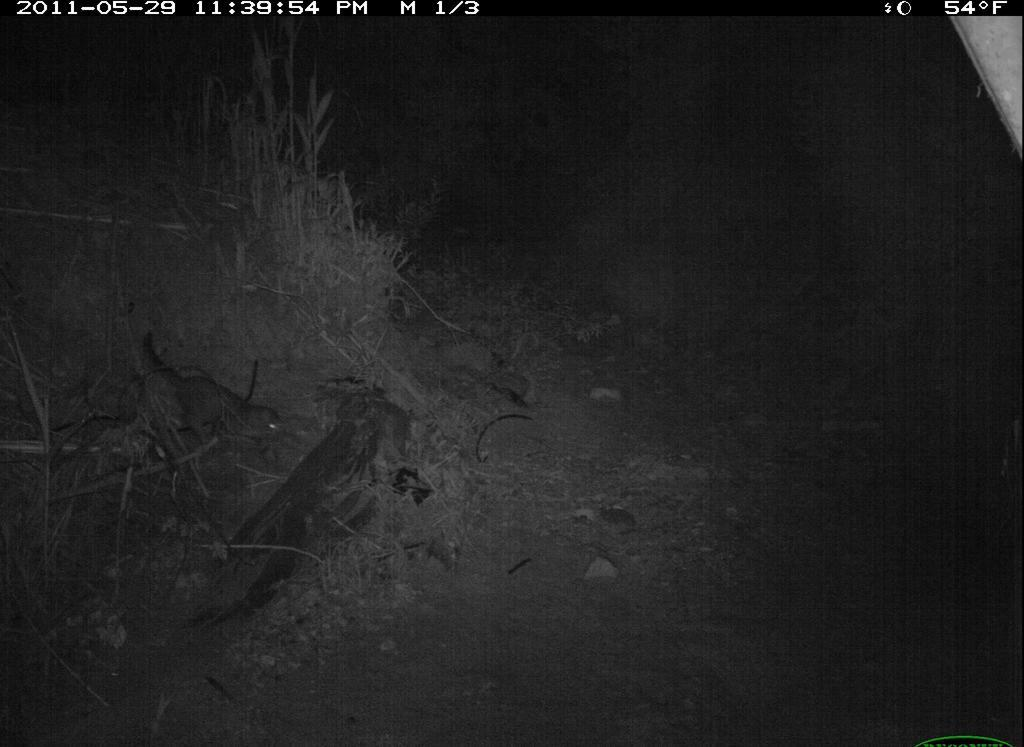cat: (109, 327, 300, 461)
